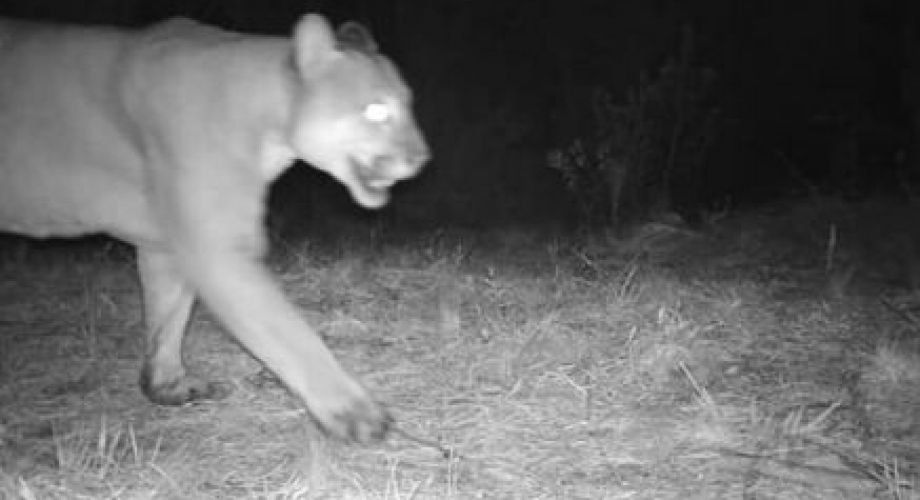OncaParda: (7, 10, 433, 450)
